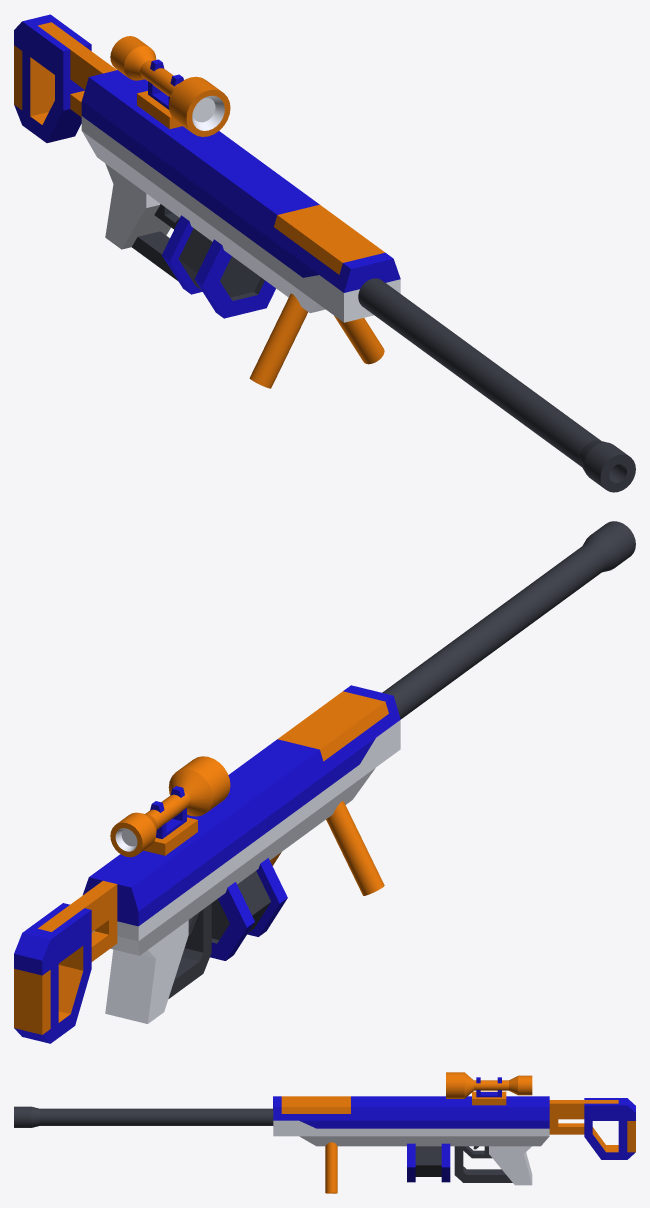
Rendered from sniper.fbx.
3 views of the same model, one above another, from view 1: azimuth 30°, elevation 25°; view 2: azimuth 150°, elevation 25°; view 3: azimuth 270°, elevation 25° (orthographic). The views are drawn at different scales.
Parts seen in each view (by area): view 1: mediumBlaster_handleGuard, mediumBlaster_centerDetail, attachment_barrelThin (×4), mediumBlaster_center, stock_tactical, scope_large, clipBarrel_small, attachment_barrelEnd, mediumBlaster_back; view 2: mediumBlaster_handleGuard, stock_tactical, mediumBlaster_centerDetail, mediumBlaster_center, attachment_barrelThin (×3), scope_large, clipBarrel_small, attachment_barrelEnd, mediumBlaster_back; view 3: mediumBlaster_handleGuard, mediumBlaster_center, mediumBlaster_centerDetail, attachment_barrelThin (×3), stock_tactical, scope_large, attachment_barrelEnd, clipBarrel_small, mediumBlaster_back.
Boxes of the visible parts, bbox=[...] form: mediumBlaster_handleGuard: bbox=[98, 79, 229, 281]; mediumBlaster_centerDetail: bbox=[262, 198, 400, 322]; attachment_barrelThin (×4): bbox=[249, 278, 544, 425]; mediumBlaster_center: bbox=[180, 138, 311, 282]; stock_tactical: bbox=[14, 14, 116, 142]; scope_large: bbox=[110, 36, 230, 136]; clipBarrel_small: bbox=[162, 215, 275, 318]; attachment_barrelEnd: bbox=[522, 398, 635, 492]; mediumBlaster_back: bbox=[81, 70, 142, 162]; mediumBlaster_handleGuard: bbox=[105, 810, 236, 1023]; stock_tactical: bbox=[14, 880, 117, 1043]; mediumBlaster_centerDetail: bbox=[269, 685, 400, 829]; mediumBlaster_center: bbox=[210, 745, 318, 884]; attachment_barrelThin (×3): bbox=[326, 585, 550, 895]; scope_large: bbox=[110, 756, 230, 857]; clipBarrel_small: bbox=[210, 858, 287, 960]; attachment_barrelEnd: bbox=[527, 521, 635, 612]; mediumBlaster_back: bbox=[83, 865, 154, 955]; mediumBlaster_handleGuard: bbox=[446, 1096, 532, 1185]; mediumBlaster_center: bbox=[359, 1096, 445, 1146]; mediumBlaster_centerDetail: bbox=[273, 1096, 359, 1146]; attachment_barrelThin (×3): bbox=[100, 1108, 337, 1193]; stock_tactical: bbox=[549, 1098, 635, 1159]; scope_large: bbox=[446, 1072, 532, 1105]; attachment_barrelEnd: bbox=[14, 1106, 100, 1127]; clipBarrel_small: bbox=[407, 1143, 450, 1182]; mediumBlaster_back: bbox=[532, 1096, 549, 1146].
Size of the model in its own units: 9.28 by 13.8 by 72.
